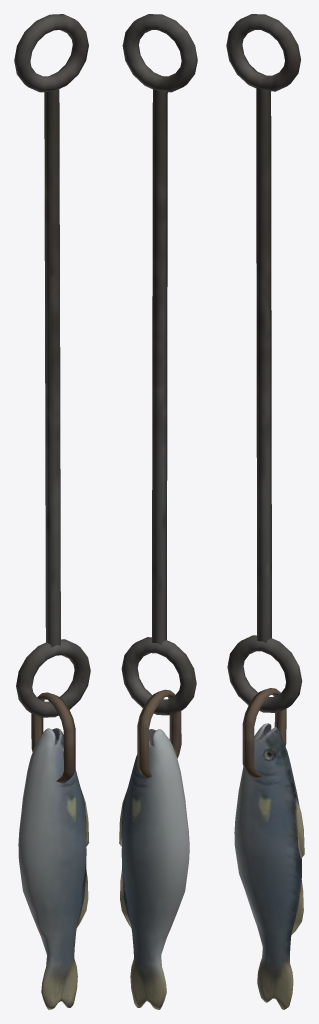
File: ChainFish.glb
The picture shows the model from 3 angles, left to right: view 1: azimuth 30°, elevation 25°; view 2: azimuth 150°, elevation 25°; view 3: azimuth 330°, elevation 25°; orthographic projection.
Visible parts, largest first — view 1: Chain with Fish Variant, Fish; view 2: Chain with Fish Variant, Fish; view 3: Chain with Fish Variant, Fish.
Part boxes in pixels (bbox=[...]): Chain with Fish Variant: bbox=[14, 14, 90, 783]; Fish: bbox=[18, 728, 89, 1009]; Chain with Fish Variant: bbox=[121, 14, 197, 778]; Fish: bbox=[119, 729, 189, 1009]; Chain with Fish Variant: bbox=[226, 14, 302, 778]; Fish: bbox=[234, 723, 304, 1009].
Bounding box in the file's own units: 0.1283 × 1.63 × 0.1075.
2 materials, 2 textured.
